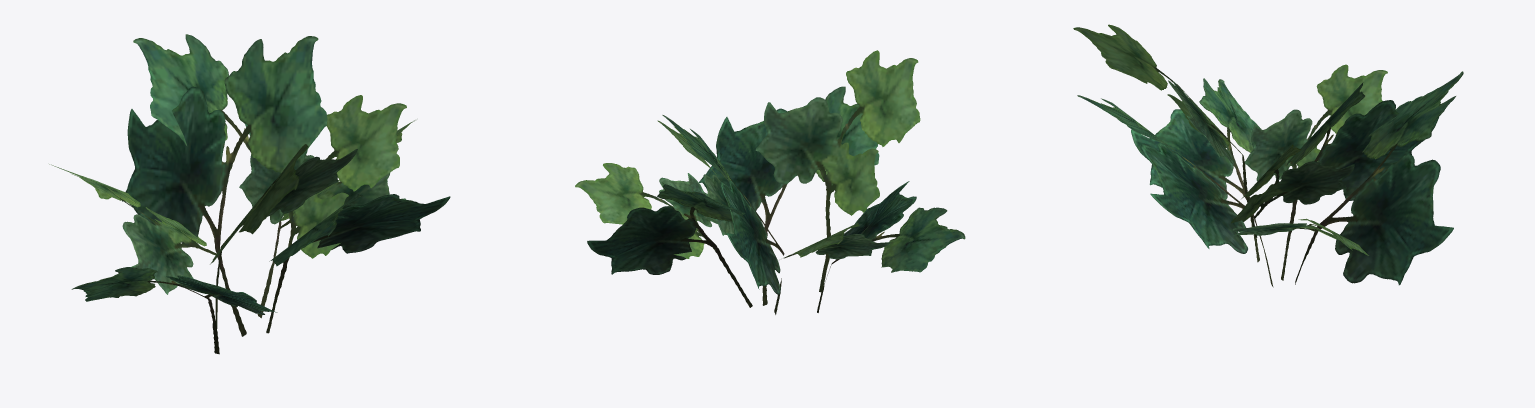
The model's file is environment_tree_guanmu_001.FBX.
The picture shows the model from 3 angles, left to right: view 1: azimuth 30°, elevation 25°; view 2: azimuth 150°, elevation 25°; view 3: azimuth 270°, elevation 25°; orthographic projection. The views are drawn at different scales.
Parts seen in each view (by area): view 1: environment_tree_guanmu_001; view 2: environment_tree_guanmu_001; view 3: environment_tree_guanmu_001.
Boxes of the visible parts, box(x1,y1,x2,y2) form: environment_tree_guanmu_001: box(49, 34, 450, 354); environment_tree_guanmu_001: box(575, 50, 965, 314); environment_tree_guanmu_001: box(1073, 24, 1463, 287).
Size of the model in its own units: 221 by 150 by 214.
